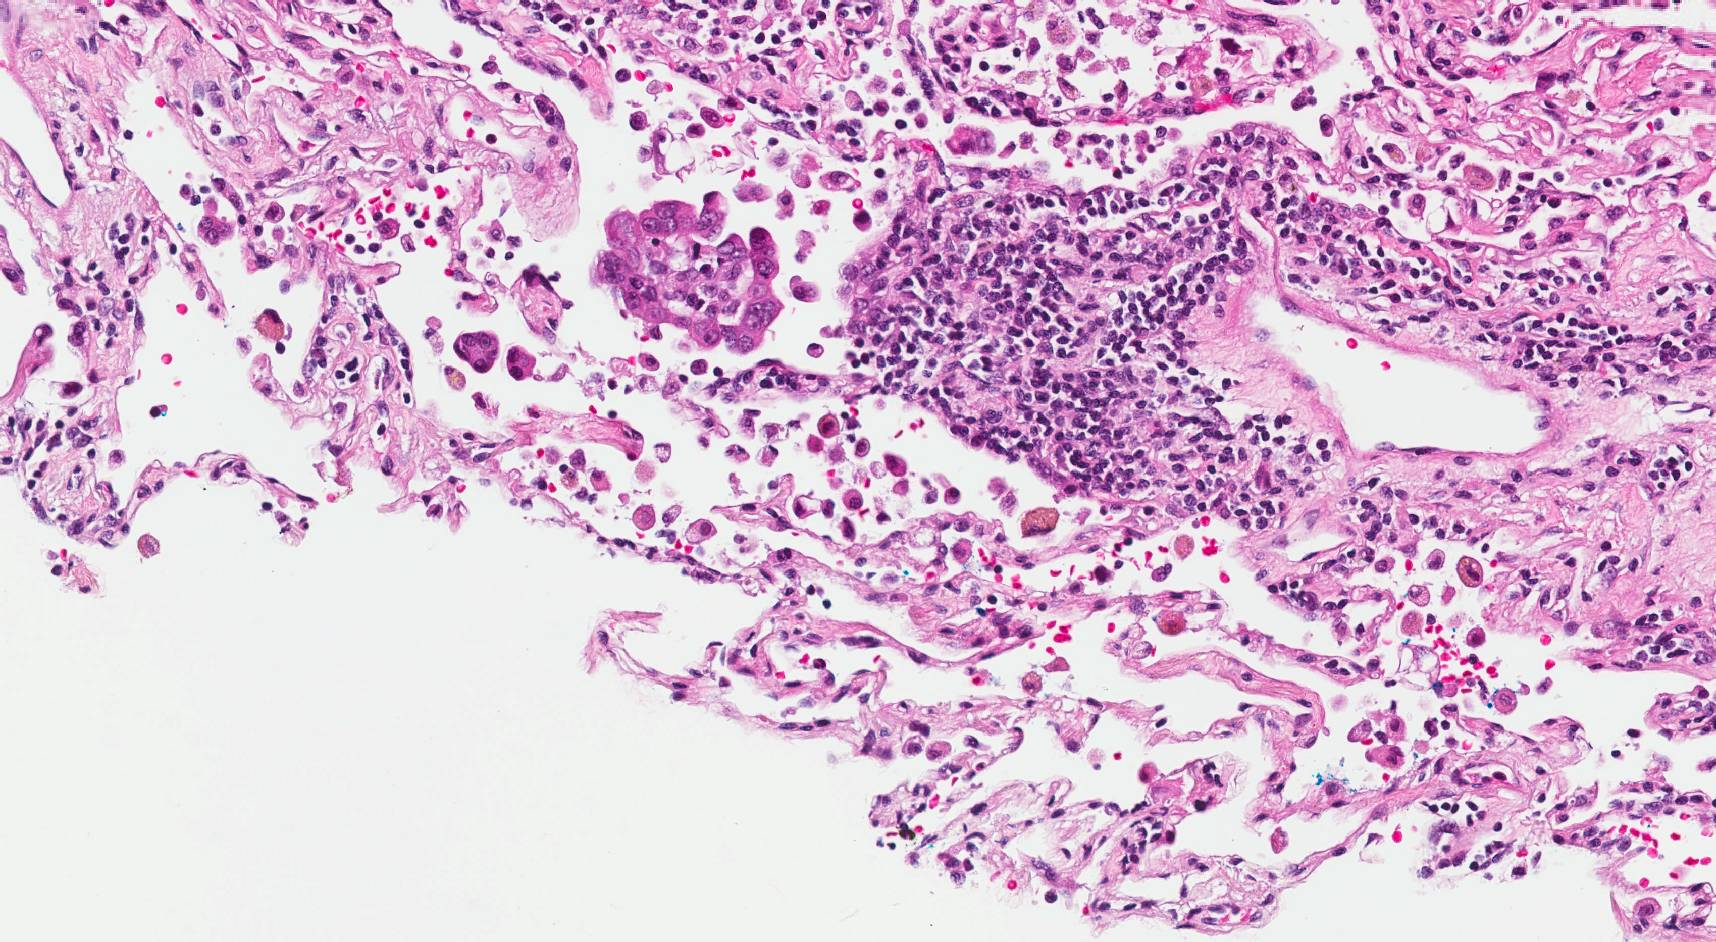stas: (595, 190, 785, 357), (451, 327, 499, 373), (507, 344, 538, 381)
